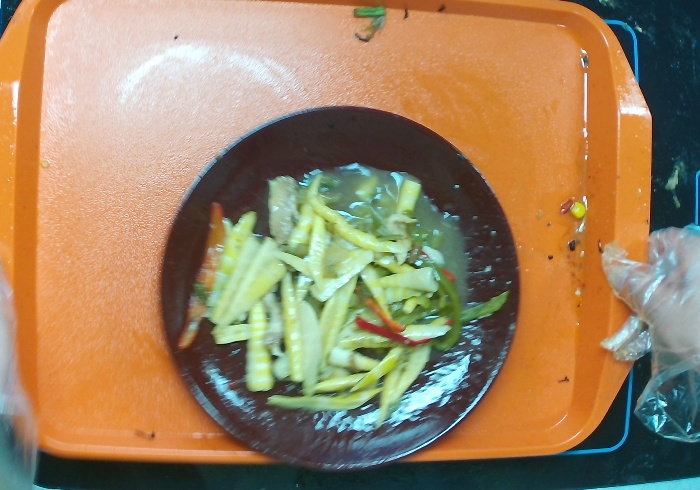HZYJPL-Ka_Fei_Yuan_Pan: (139, 85, 541, 483)
